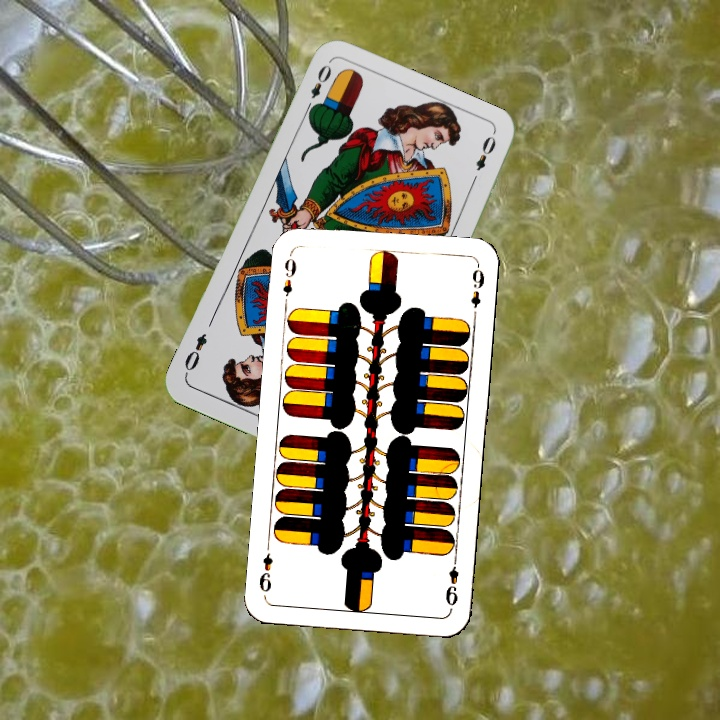E9: (441, 552, 461, 608), (279, 249, 299, 299)
EO: (301, 60, 334, 116)
